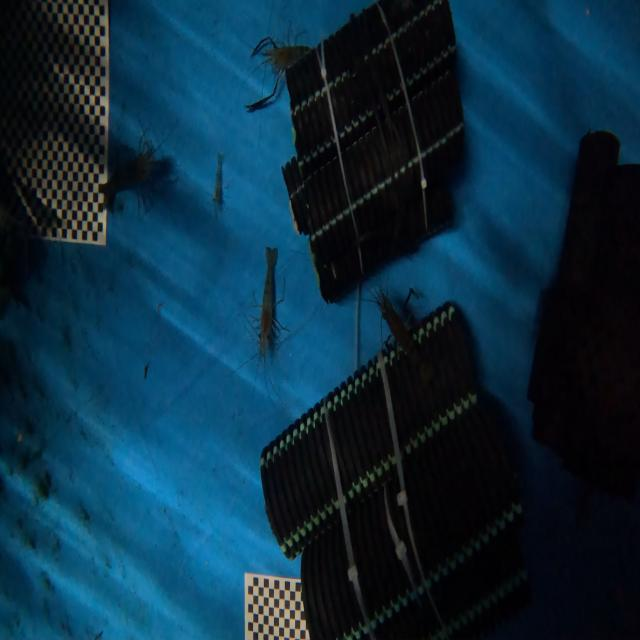prawn: (105, 153, 174, 207), (251, 37, 310, 70), (378, 294, 412, 350), (259, 248, 274, 353)
